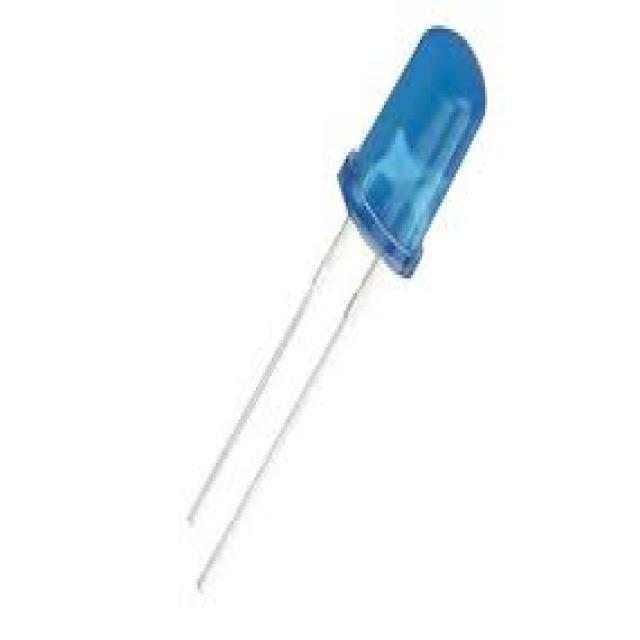Led: (206, 28, 485, 572)
